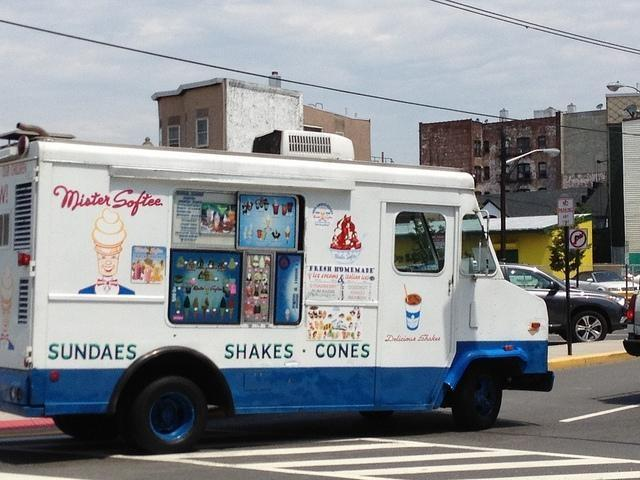car: (502, 261, 627, 341), (562, 270, 640, 295), (622, 288, 640, 358)
truck: (2, 129, 554, 454)
